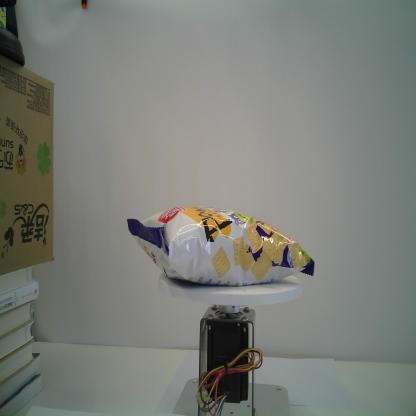Puffed Food: (123, 204, 318, 288)
